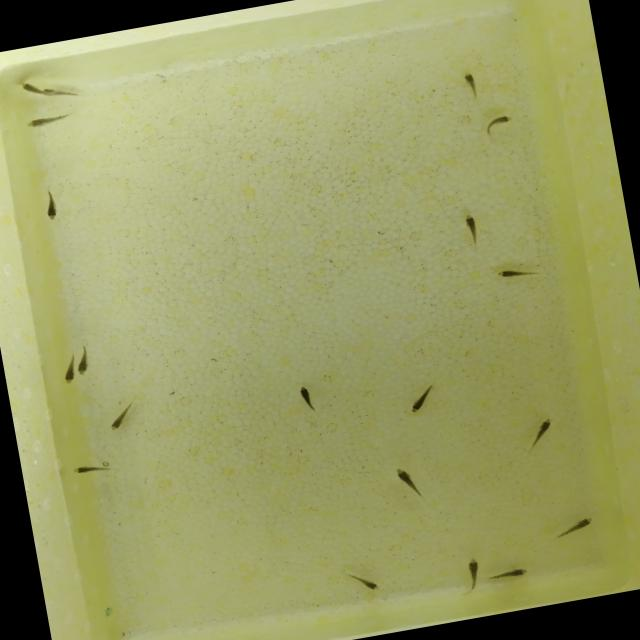fingerling: (341, 562, 396, 600), (387, 456, 431, 502), (100, 396, 148, 434), (489, 258, 539, 287), (288, 379, 325, 417), (404, 380, 440, 418), (456, 208, 488, 250), (554, 510, 598, 540), (34, 185, 64, 228), (69, 456, 118, 482), (523, 416, 559, 450), (19, 110, 74, 132), (458, 554, 487, 594), (38, 81, 84, 105), (476, 109, 520, 134), (488, 563, 532, 584), (457, 68, 485, 100), (57, 351, 80, 388), (74, 343, 93, 378), (14, 78, 40, 96)
